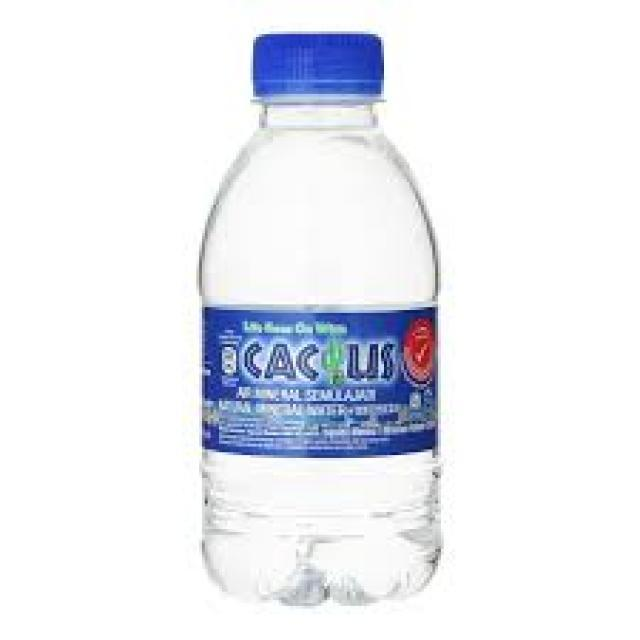bottle: (170, 10, 492, 639)
